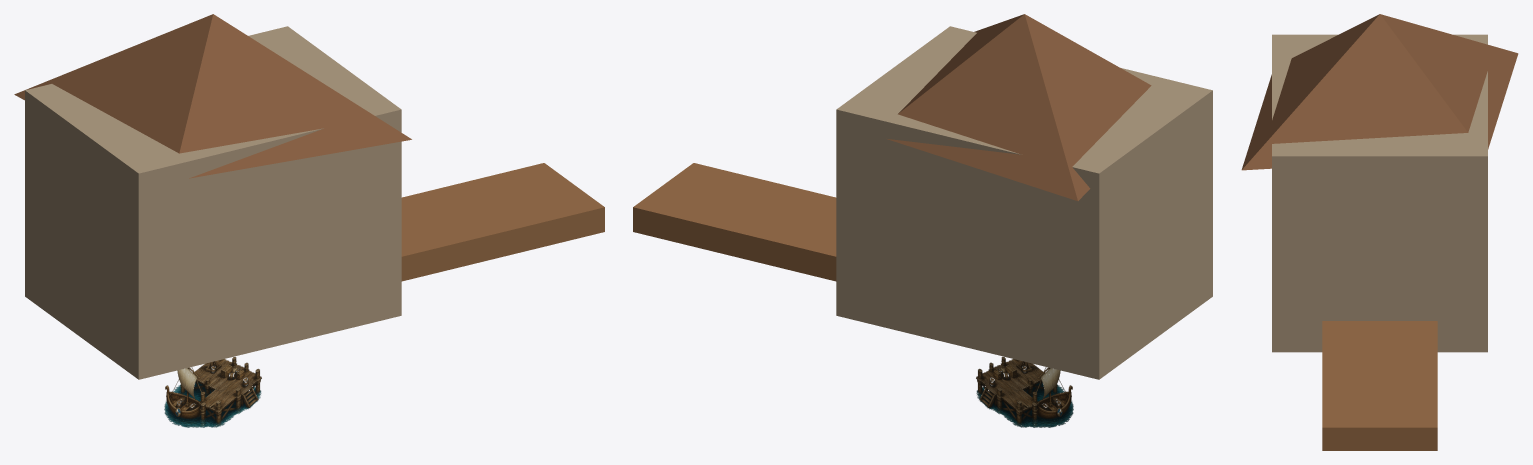
File: molo_i.glb
The picture shows the model from 3 angles, left to right: view 1: azimuth 30°, elevation 25°; view 2: azimuth 150°, elevation 25°; view 3: azimuth 270°, elevation 25°; orthographic projection. The views are drawn at different scales.
Parts seen in each view (by area): view 1: Body, Roof, Pier, CatalogTexture; view 2: Body, Roof, Pier, CatalogTexture; view 3: Body, Roof, Pier.
Part boxes in pixels (box(x1,y1,x2,y2)): Body: box(25, 26, 401, 379); Roof: box(14, 14, 411, 178); Pier: box(401, 163, 604, 281); CatalogTexture: box(164, 357, 261, 427); Body: box(836, 26, 1212, 379); Roof: box(886, 14, 1151, 200); Pier: box(633, 163, 836, 281); CatalogTexture: box(976, 357, 1073, 427); Body: box(1272, 34, 1487, 352); Roof: box(1241, 14, 1518, 170); Pier: box(1322, 321, 1437, 450).
Size of the model in its own units: 3.75 by 3.09 by 1.92.
Materials: 4 (1 with a texture image).
